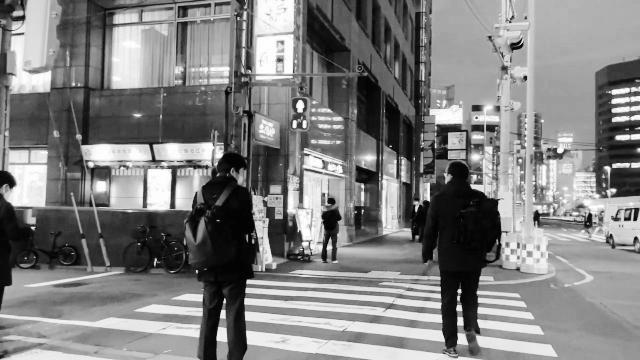berdiri: (188, 154, 270, 360)
berjalan: (419, 159, 499, 354)
